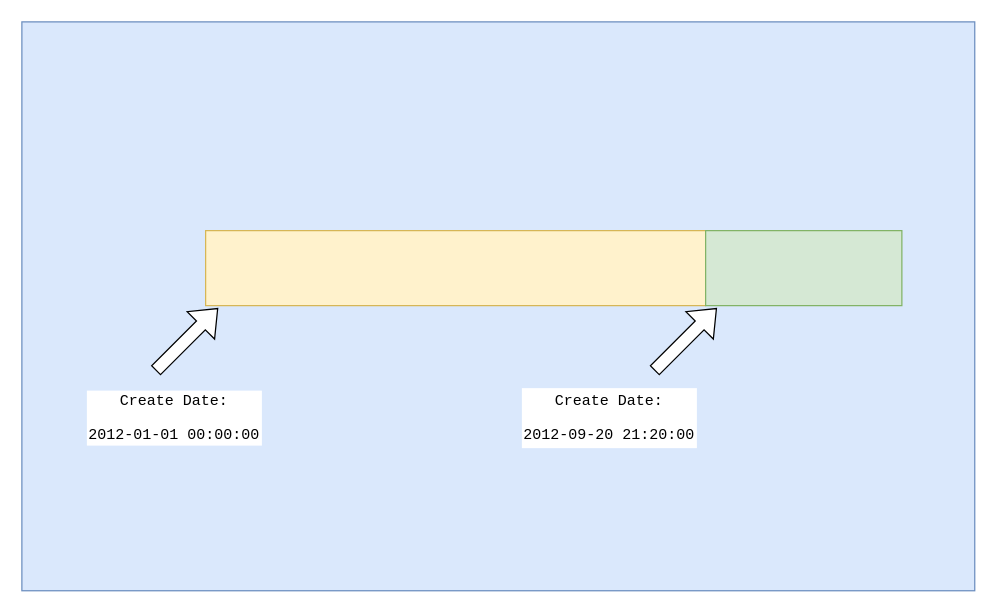
The diagram is 998 pixels wide and 614 high, and some of its shapes have lost their labels. Here are the shapes that lost their labels. From the top down, the centre of each, then its label:
point (455, 267): id=0 - 380000 Status = 1
point (803, 267): id=380001 - 4000000 Status = 0
